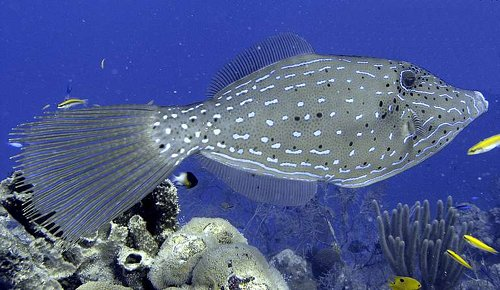Aluterus_scriptus: (9, 28, 491, 252)
